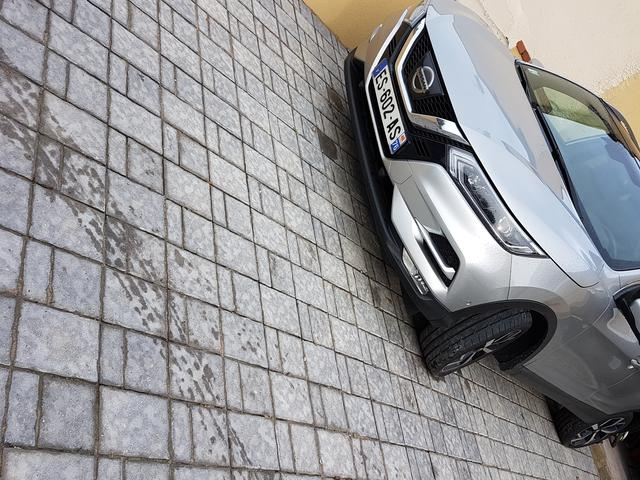Quashquai: (359, 55, 416, 161)
